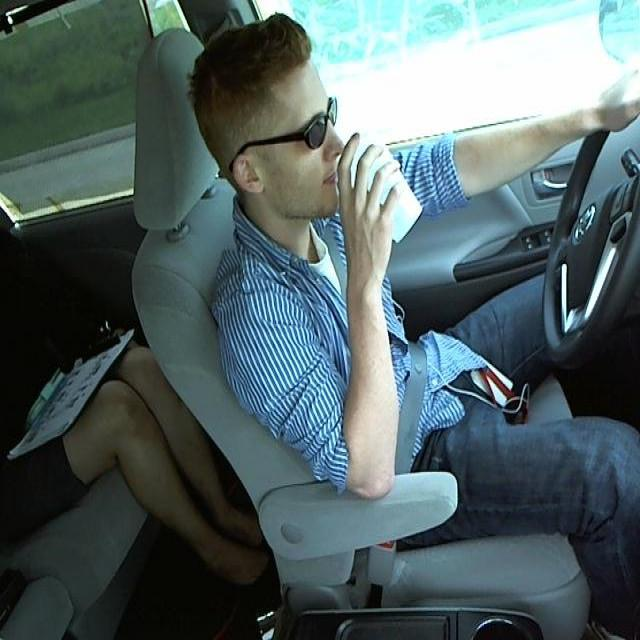drinking: (345, 127, 426, 245)
